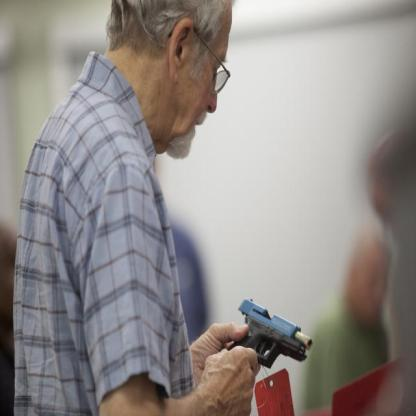criminal: (13, 0, 316, 416)
weapon: (225, 296, 316, 368)
